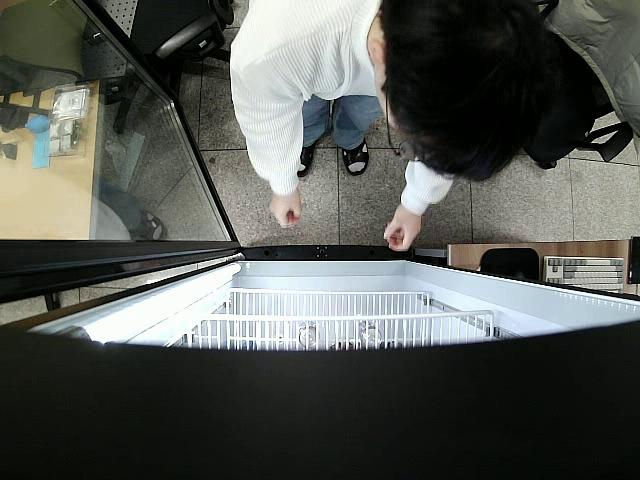00_hand: (385, 203, 423, 252), (268, 189, 303, 229)
